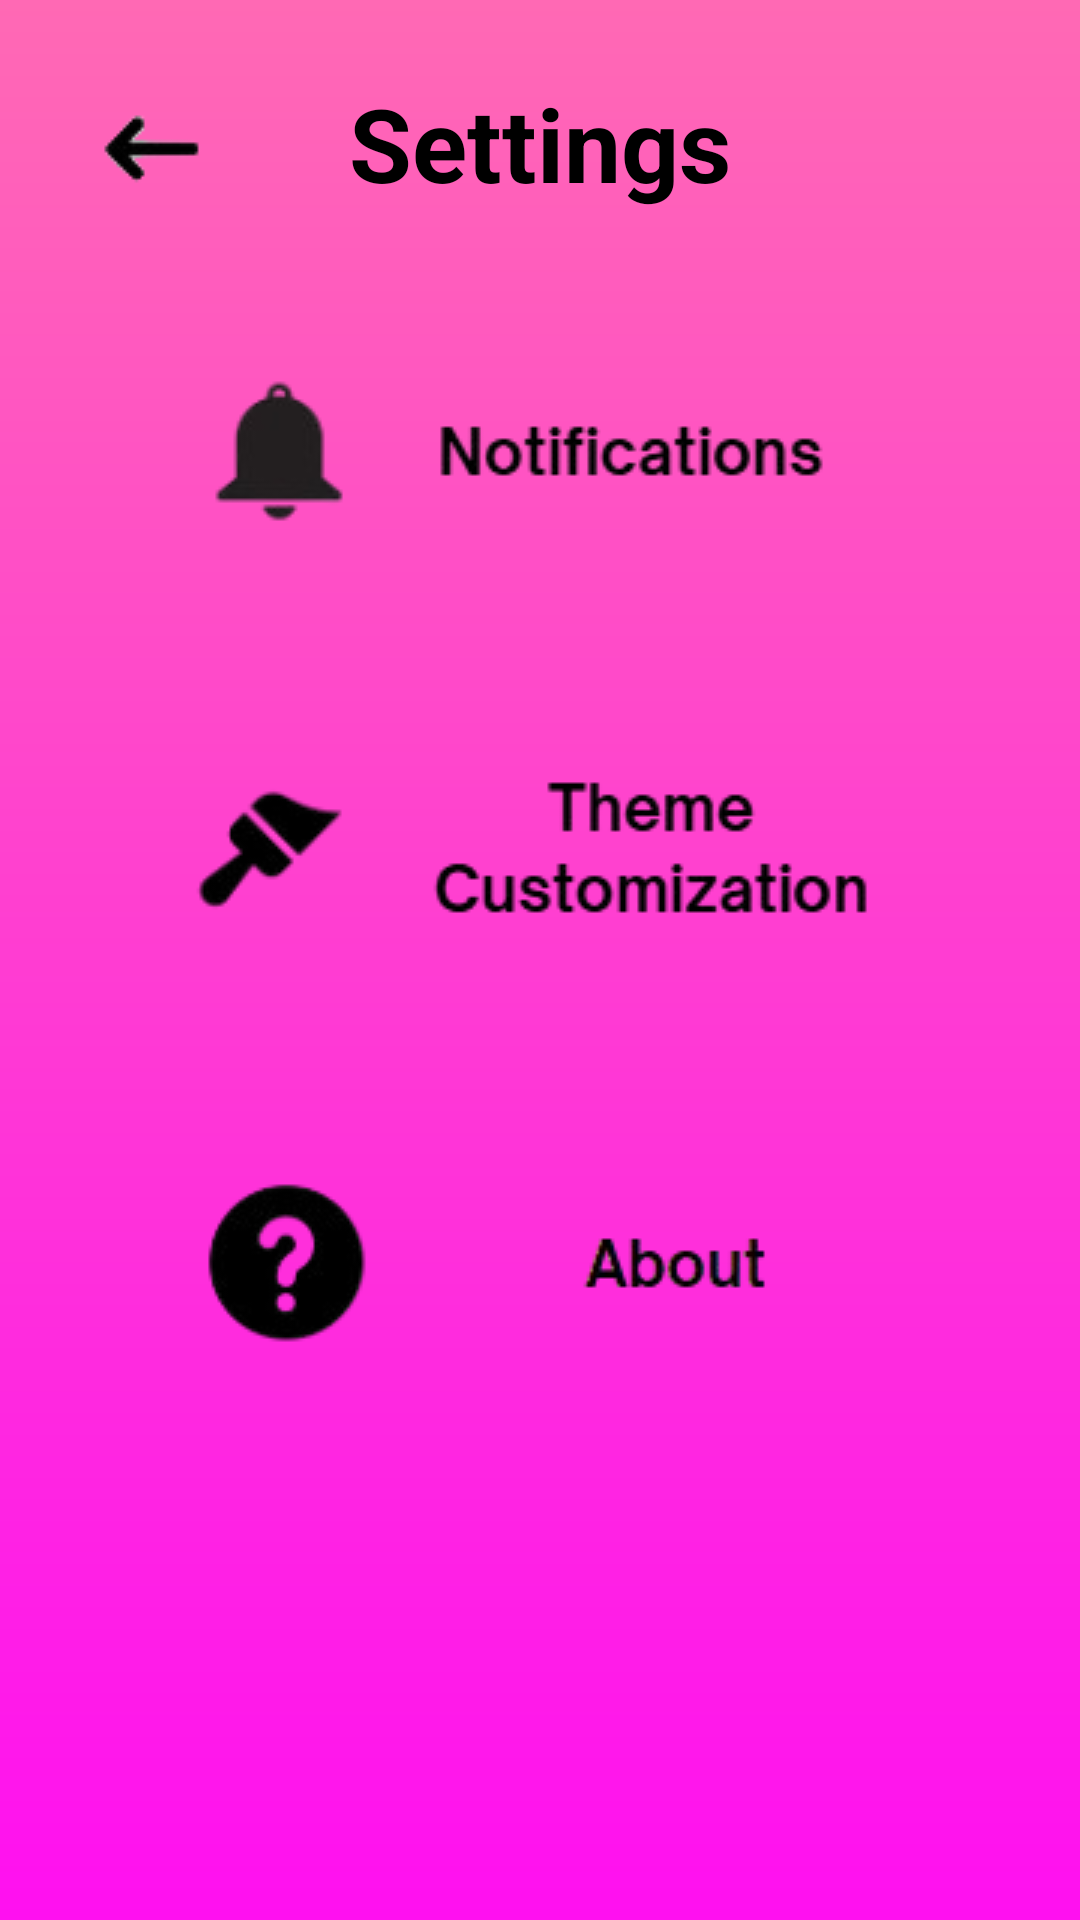

Point at icon controls on the screen. Image size 1080w x 1920h, points as [x,y].
Return: [151,148]
